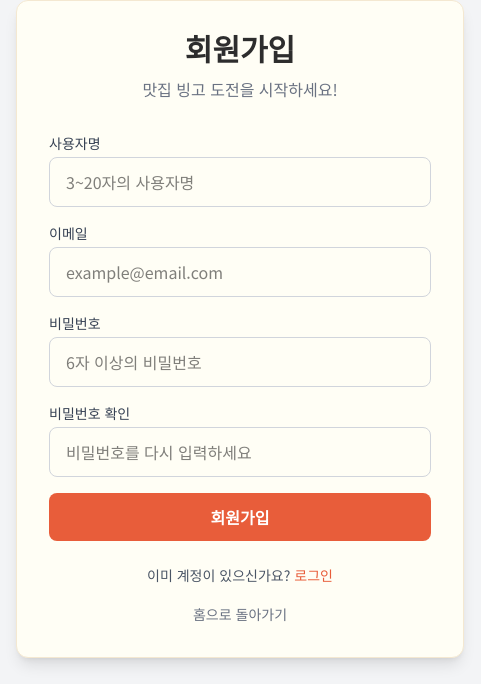
Test: RegisterPage › 폼 제출 › 제출 중에는 버튼이 비활성화되어야 한다
In the field labelled "사용자명": (240, 182) [49,157,431,207], type "testuser"
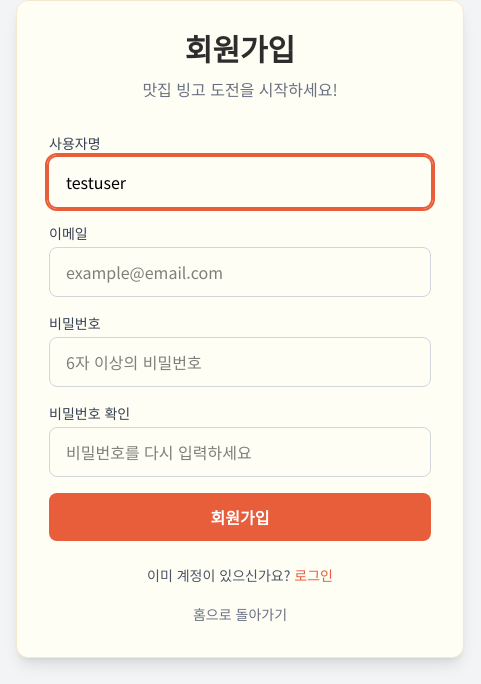
In the field labelled "이메일": (240, 272) [49,247,431,297], type "test@test.com"
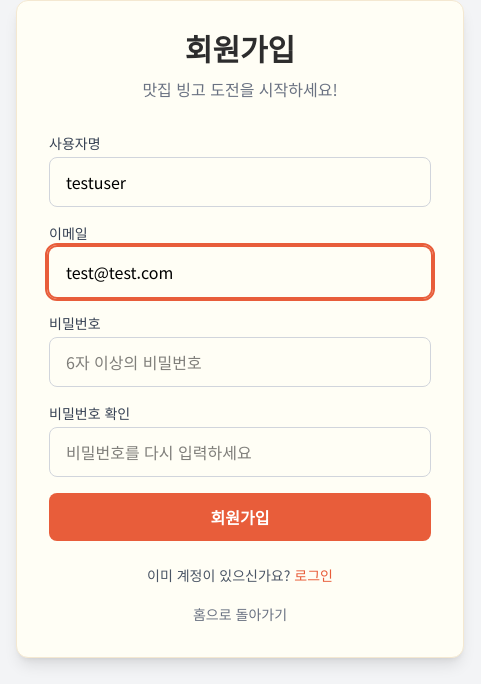
In the password field labelled "비밀번호": (240, 362) [49,337,431,387], type "password123"
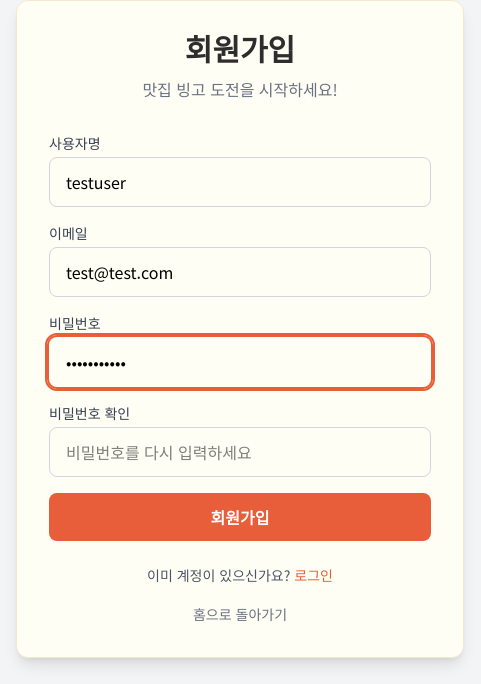
In the password field labelled "비밀번호 확인": (240, 452) [49,427,431,477], type "password123"
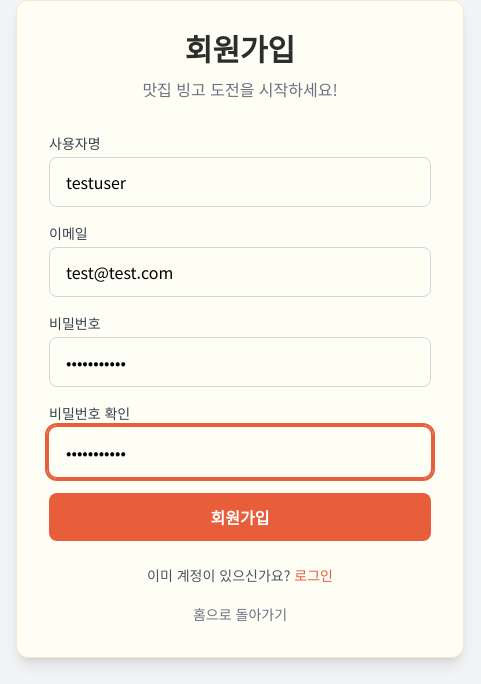
Click the button "회원가입": (240, 517) [49,493,431,541]
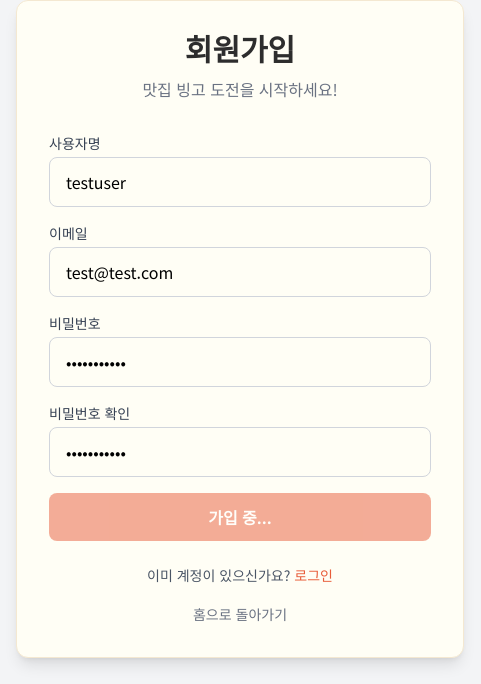
Check: the button "가입 중..." is disabled, box [49,493,431,541]
